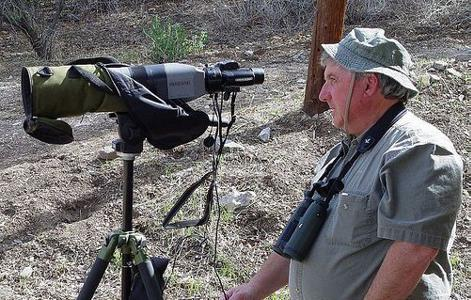person: (224, 29, 464, 300)
